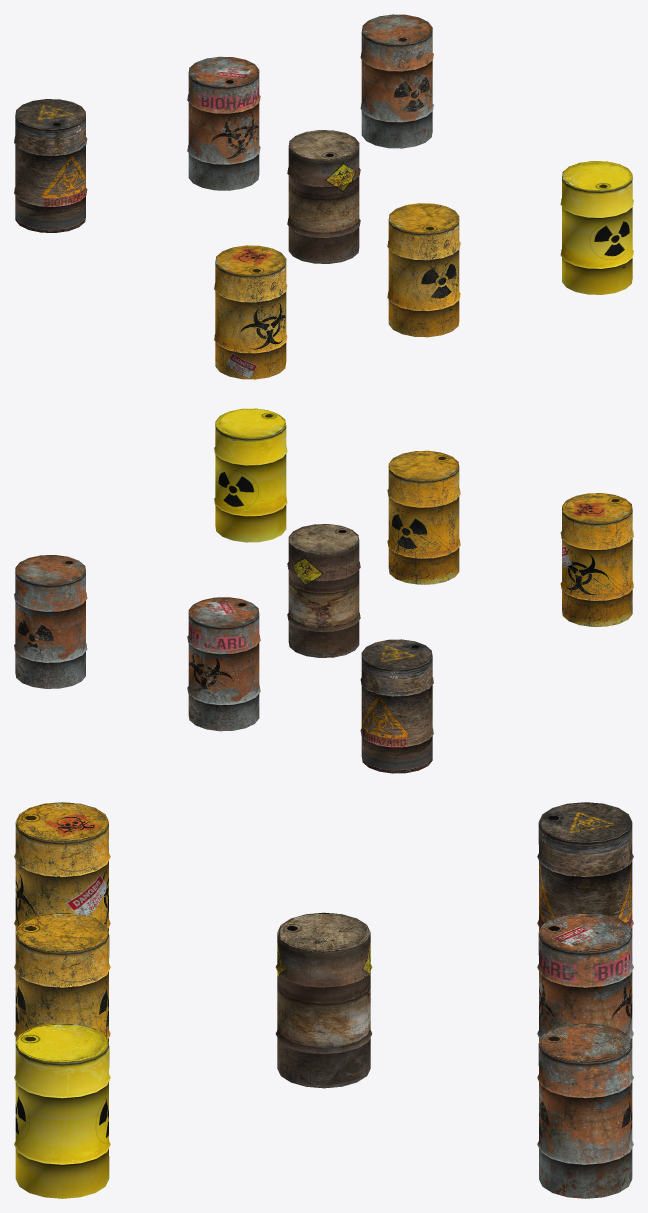
File: Barrels.fbx
3 views of the same model, one above another, from view 1: azimuth 30°, elevation 25°; view 2: azimuth 150°, elevation 25°; view 3: azimuth 270°, elevation 25° (orthographic). The views are drawn at different scales.
Visible parts, largest first — view 1: AcidBarrel2, RustyBarrel2, MetalBarrel2, AcidBarrel1, RustyBarrel1, AcidBarrel3, MetalBarrel1; view 2: AcidBarrel3, MetalBarrel1, MetalBarrel2, AcidBarrel1, RustyBarrel1, AcidBarrel2, RustyBarrel2; view 3: AcidBarrel3, RustyBarrel2, MetalBarrel2, AcidBarrel1, RustyBarrel1, MetalBarrel1, AcidBarrel2.
Boxes of the visible parts, left/top/right/bottom form: AcidBarrel2: left=214, top=245, right=287, bottom=379; RustyBarrel2: left=360, top=14, right=433, bottom=148; MetalBarrel2: left=287, top=130, right=360, bottom=263; AcidBarrel1: left=387, top=203, right=460, bottom=337; RustyBarrel1: left=187, top=56, right=260, bottom=190; AcidBarrel3: left=560, top=161, right=633, bottom=294; MetalBarrel1: left=14, top=99, right=87, bottom=232; AcidBarrel3: left=214, top=408, right=287, bottom=542; MetalBarrel1: left=360, top=639, right=433, bottom=773; MetalBarrel2: left=287, top=524, right=360, bottom=657; AcidBarrel1: left=387, top=450, right=460, bottom=584; RustyBarrel1: left=187, top=597, right=260, bottom=731; AcidBarrel2: left=560, top=493, right=633, bottom=626; RustyBarrel2: left=14, top=555, right=87, bottom=688; AcidBarrel3: left=14, top=1023, right=110, bottom=1198; RustyBarrel2: left=537, top=1023, right=633, bottom=1198; MetalBarrel2: left=275, top=912, right=372, bottom=1088; AcidBarrel1: left=14, top=912, right=110, bottom=1068; RustyBarrel1: left=537, top=912, right=633, bottom=1042; MetalBarrel1: left=537, top=802, right=633, bottom=931; AcidBarrel2: left=14, top=802, right=110, bottom=957.
Bounding box in the file's own units: 1185 × 287 × 1185.
7 materials, 7 textured.
